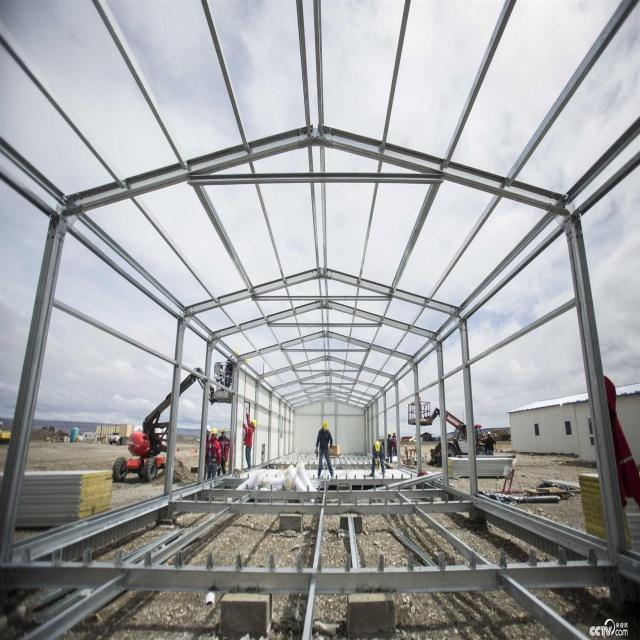helmet: (250, 557, 258, 575), (321, 560, 329, 577), (375, 585, 382, 604), (211, 568, 218, 584), (206, 566, 211, 582), (392, 573, 398, 584), (220, 569, 224, 584), (386, 575, 392, 585), (487, 572, 491, 585)
